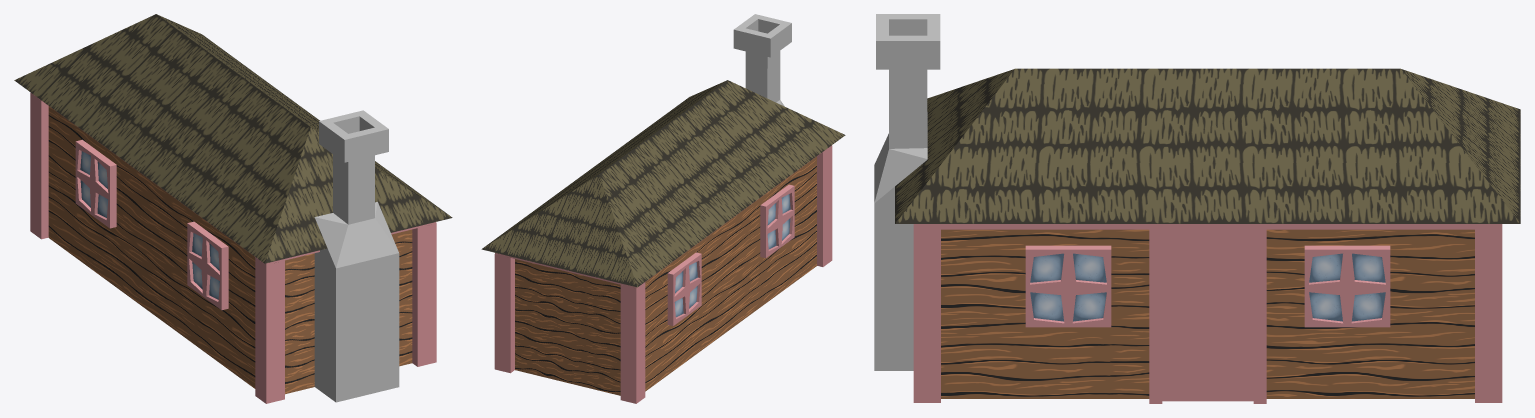
The model's file is Hous1 (3).fbx.
3 views of the same model, side by side, from view 1: azimuth 30°, elevation 25°; view 2: azimuth 150°, elevation 25°; view 3: azimuth 270°, elevation 25° (orthographic). The views are drawn at different scales.
Visible parts, largest first — view 1: Cube; view 2: Cube; view 3: Cube.
Boxes of the visible parts, x1,y1,x2,y2 form: Cube: (14, 14, 452, 403); Cube: (481, 14, 845, 403); Cube: (874, 14, 1520, 403).
Size of the model in its own units: 461 by 610 by 1100.
